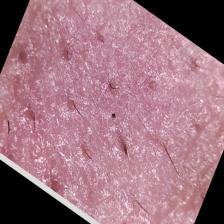Dry: (1, 0, 224, 224)
